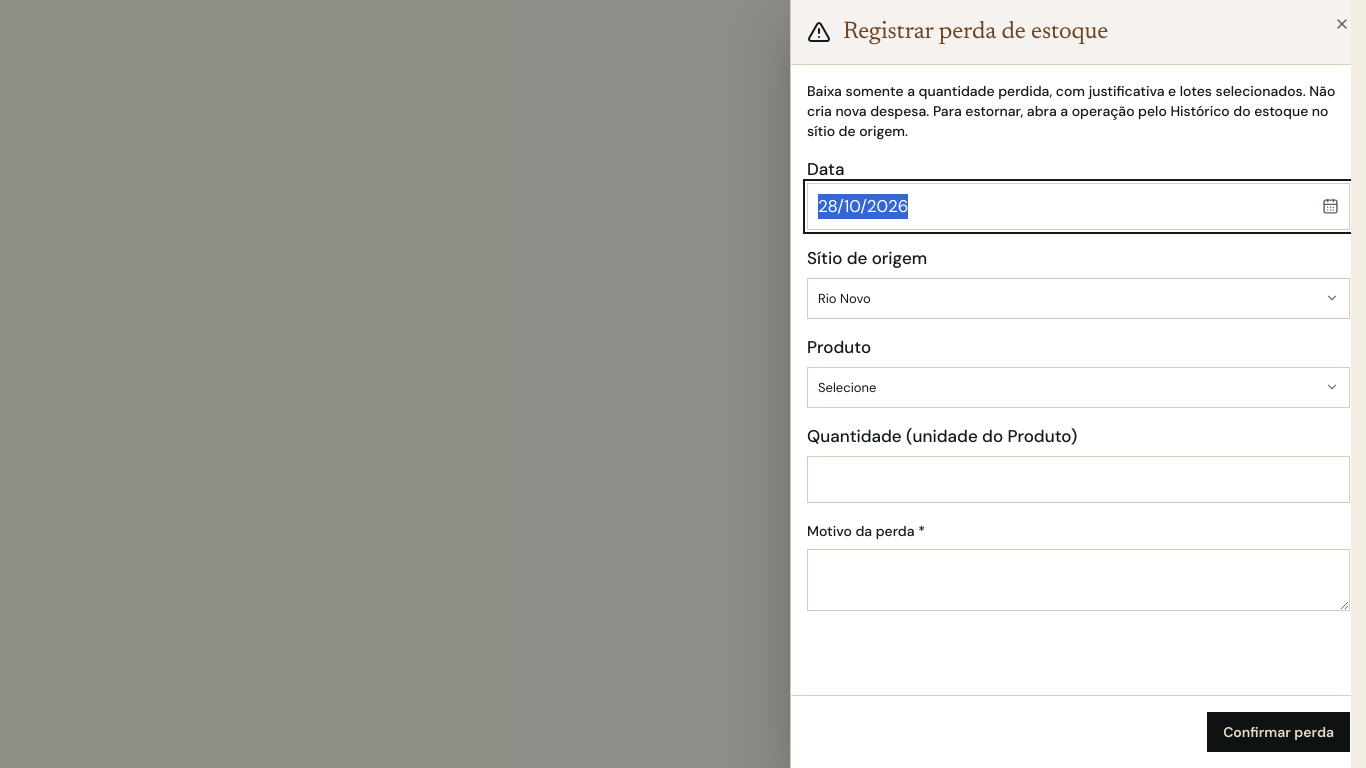
Test: perda de estoque › erro de motivo retornado pela API permanece junto ao campo
This screenshot has width=1366, height=768.
Click the dropdown named "Produto" at (847, 387), box [807,366,1350,408]
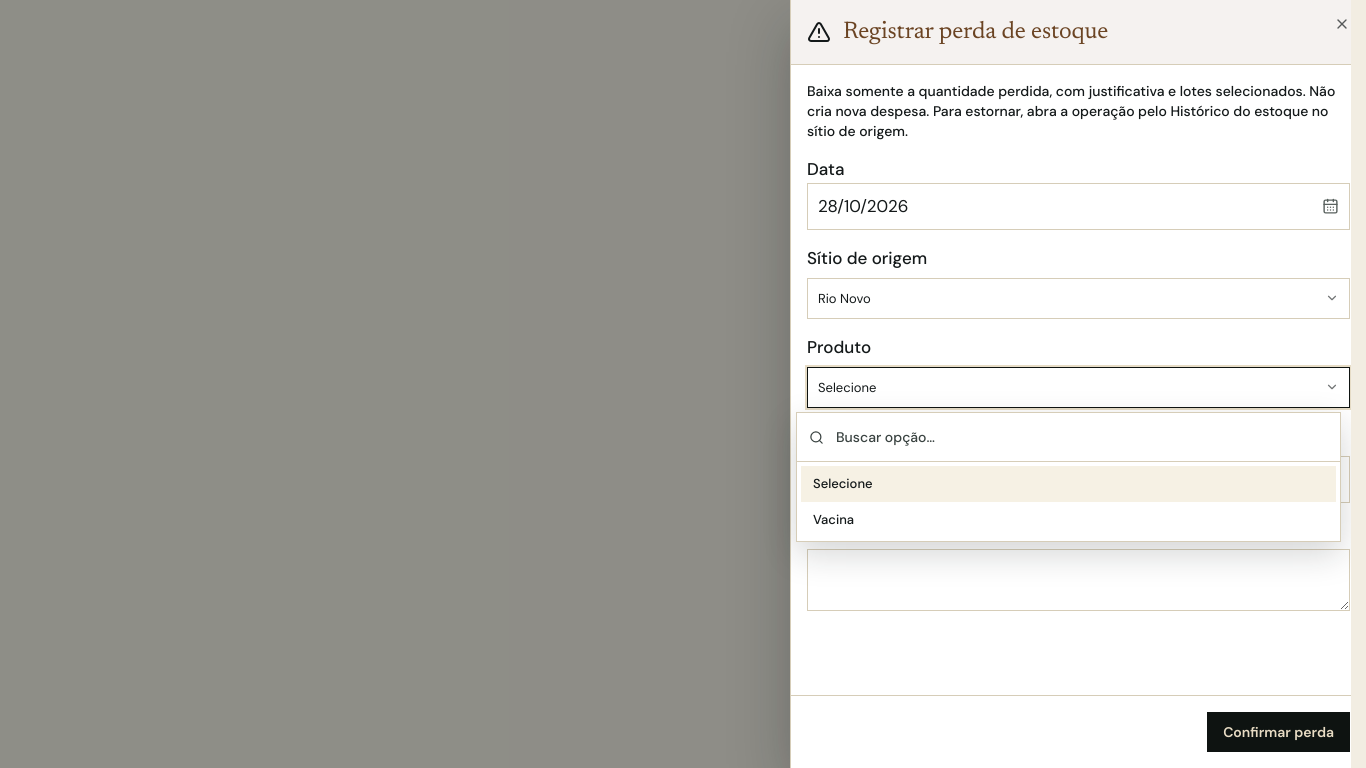
Click the option "Vacina" at (834, 519), box [813,510,854,528]
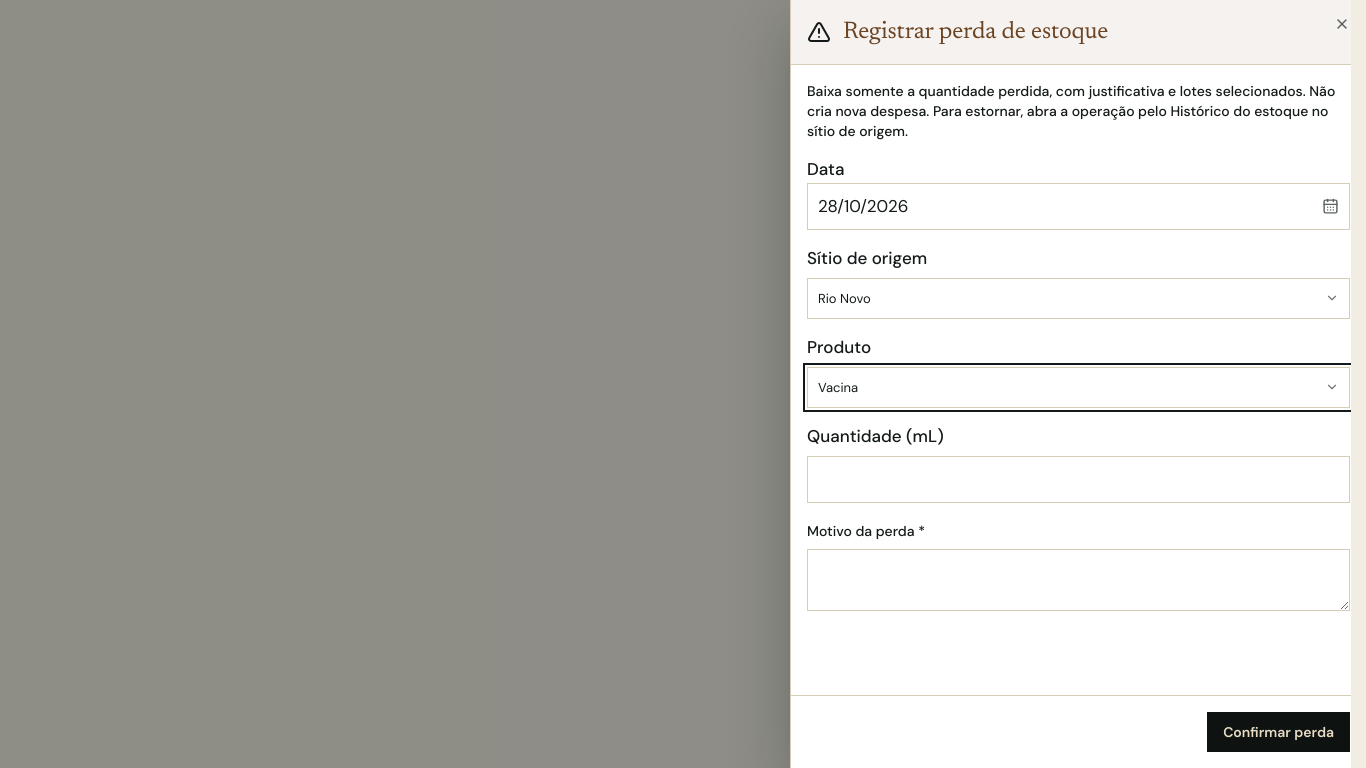
Type "2" into the number field labelled "Quantidade (mL)" at (1078, 479), box [807,456,1350,503]
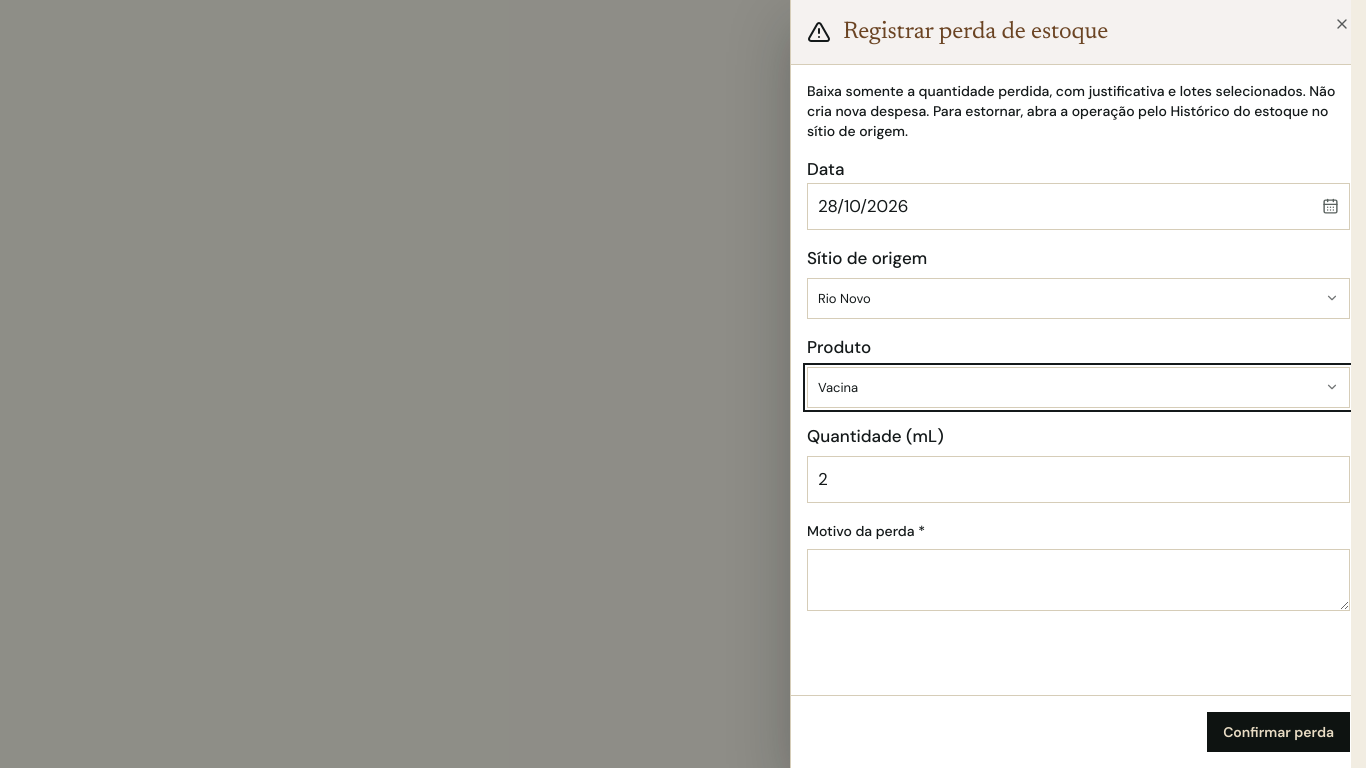
Type "Embalagem danificada" into the text box labelled "Motivo da perda" at (1078, 580), box [807,549,1350,611]
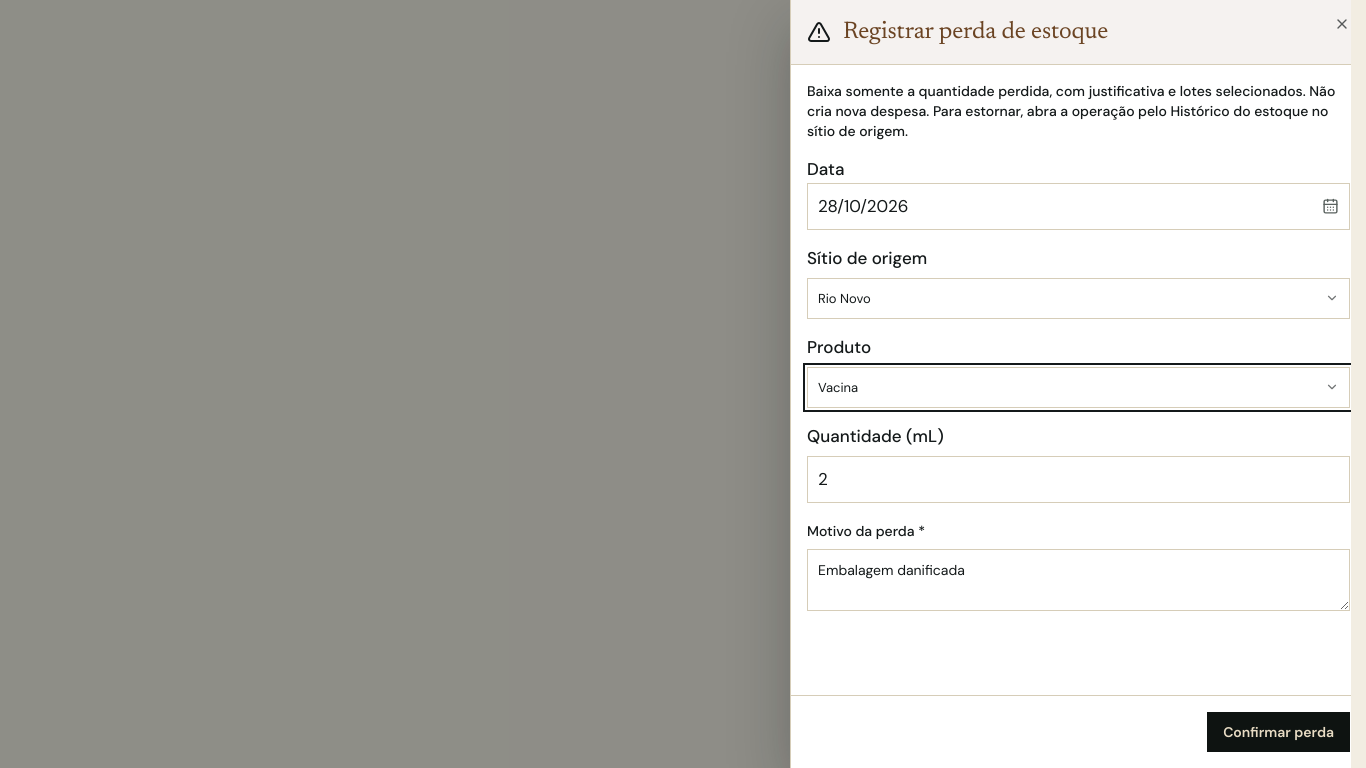
Click the button "Confirmar perda" at (1279, 732), box [1207,712,1350,752]
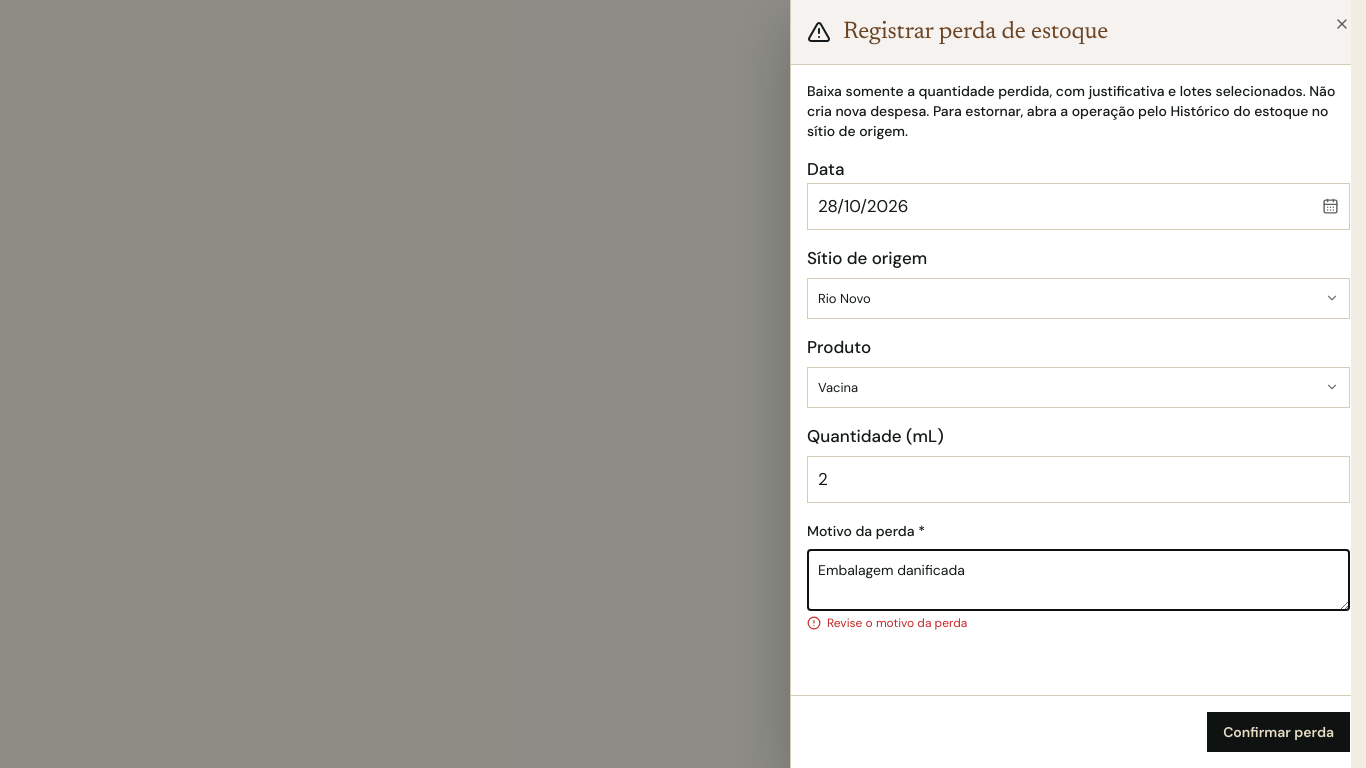
Check: the text "Revise o motivo da perda" is shown, box [807,615,967,631]
